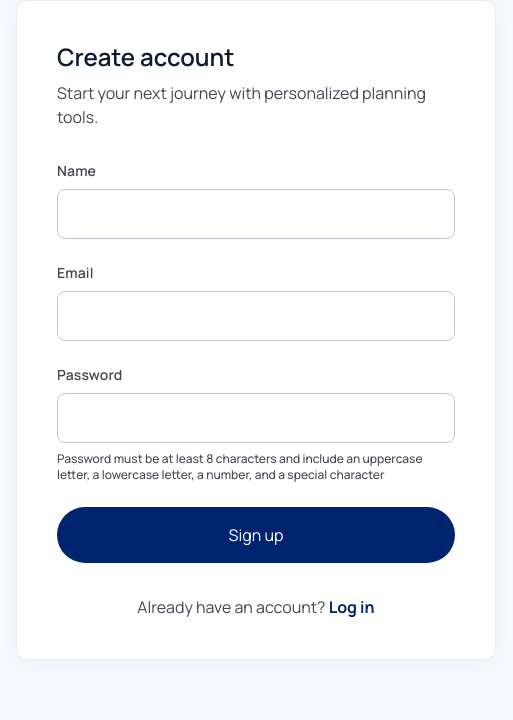
Test: RegisterPage › shows validation errors for an empty submission
This screenshot has width=513, height=720.
What coordinates should you click on to do the following:
click the button "Sign up"
I would click on:
 (256, 535)
Its box is x1=57 y1=507 x2=455 y2=563.
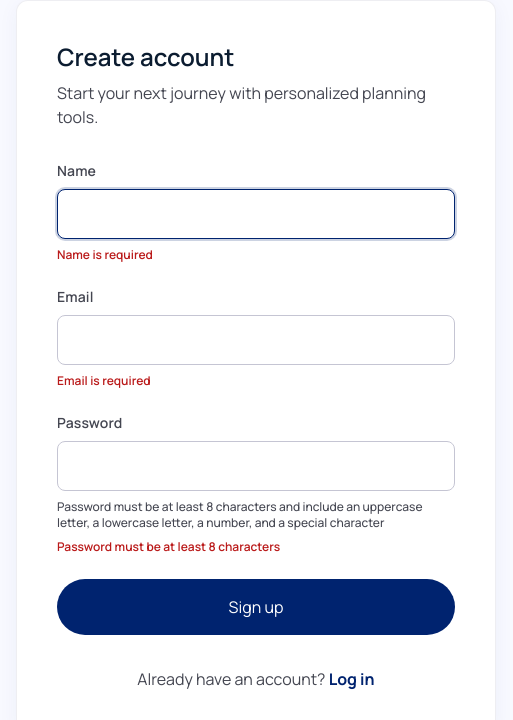
expect the text "Name is required" is shown: met, box x1=57 y1=246 x2=153 y2=263
expect the text "Email is required" is shown: met, box x1=57 y1=372 x2=151 y2=389
expect the text "Password must be at least 8 characters" is shown: met, box x1=57 y1=538 x2=280 y2=555
